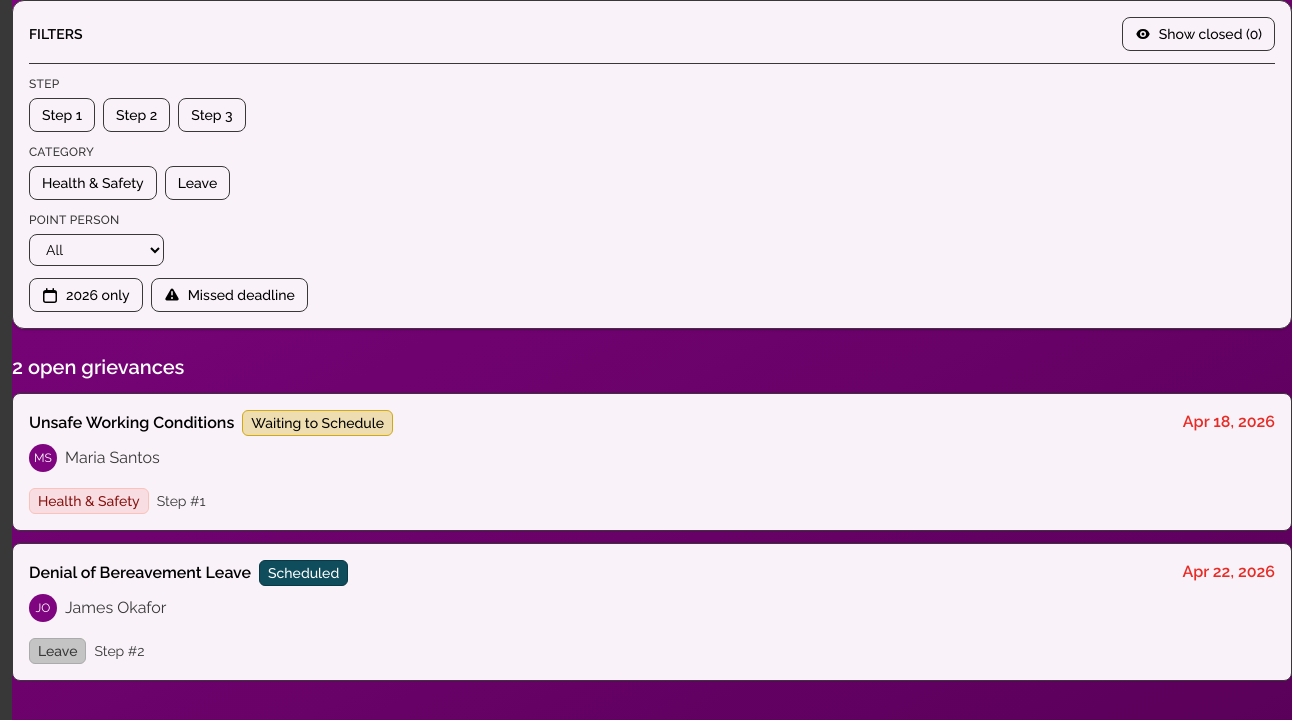
GrievanceFilterView › step filter › deselects the step filter when the active step is clicked again
Click the button "Step 1" at (62, 115), box x1=29 y1=98 x2=95 y2=132
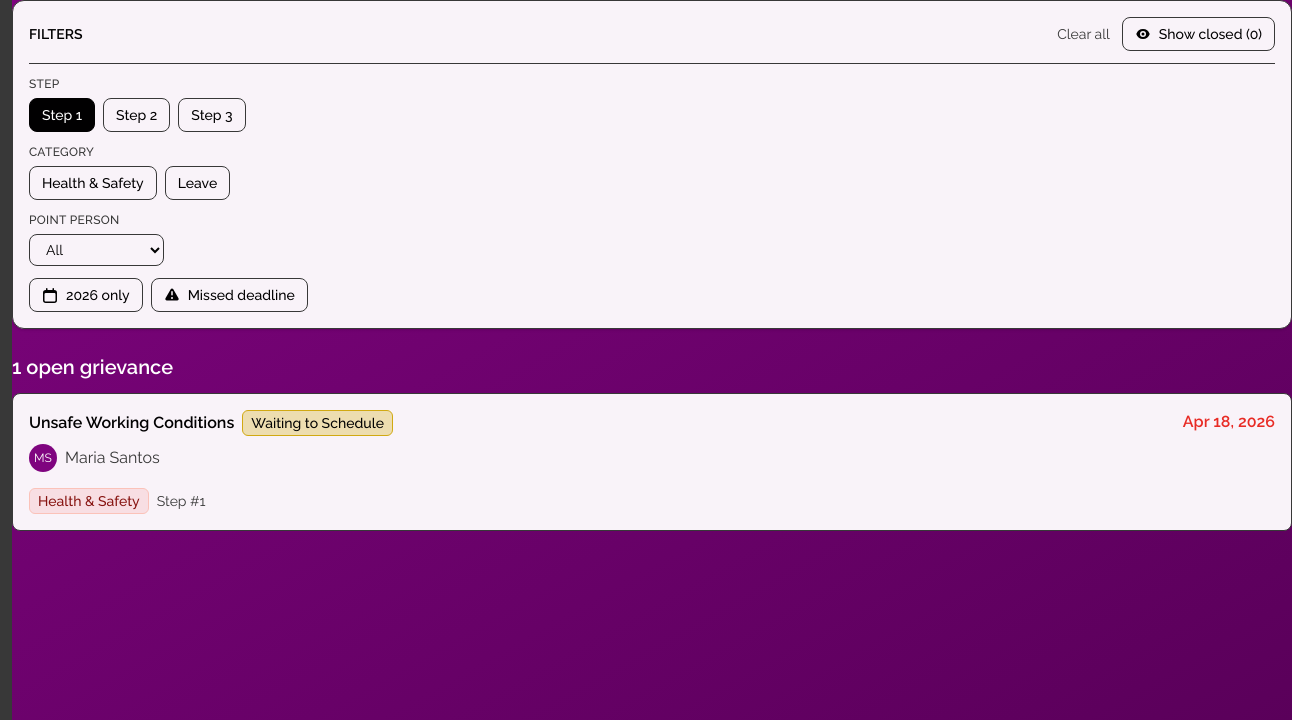
Click the button "Step 1" at (62, 115), box x1=29 y1=98 x2=95 y2=132
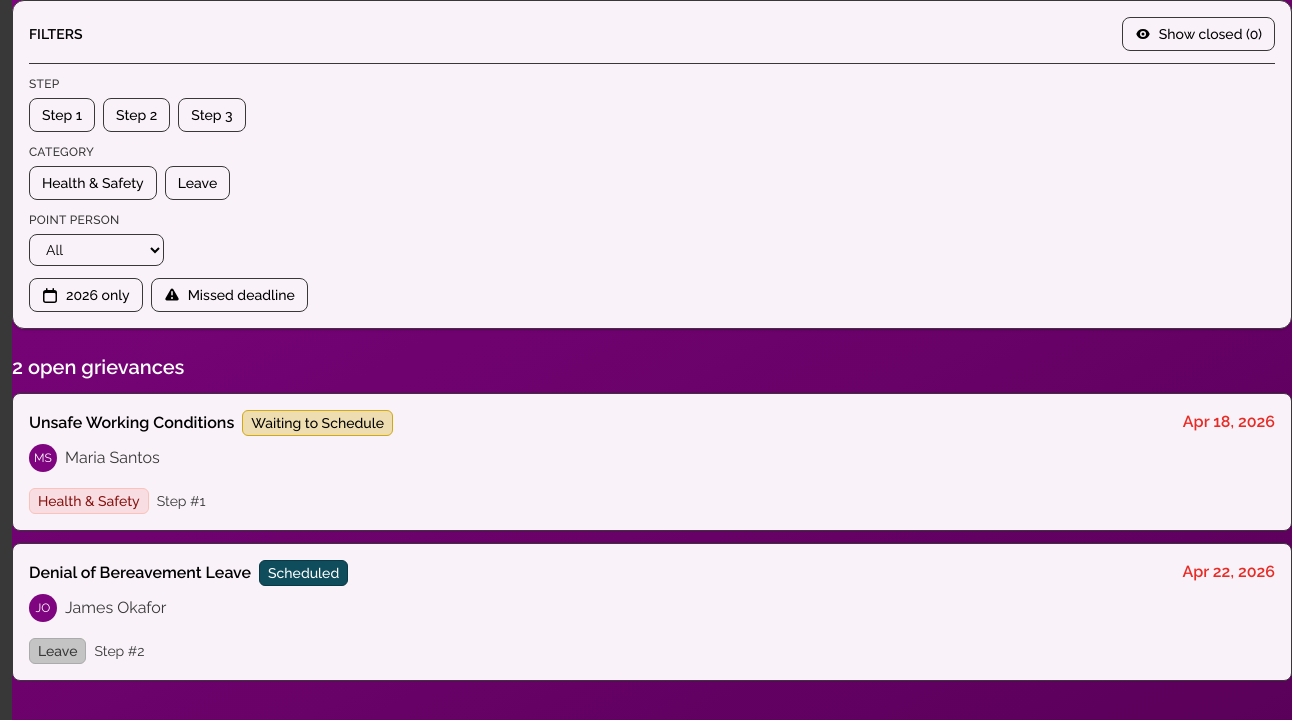
Check: the heading "Unsafe Working Conditions" is shown, box x1=29 y1=411 x2=234 y2=435
Check: the heading "Denial of Bereavement Leave" is shown, box x1=29 y1=561 x2=251 y2=585
